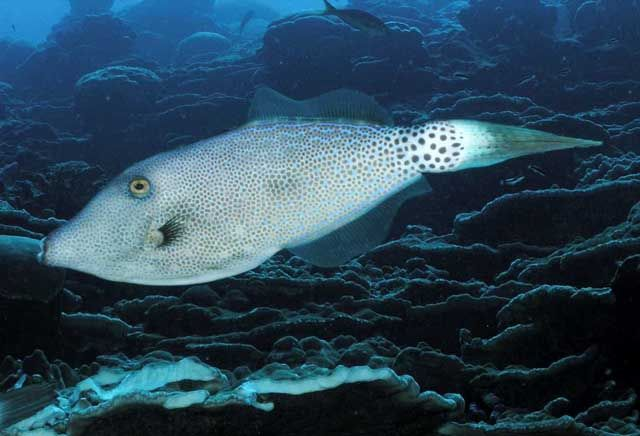fish: (39, 88, 606, 288)
